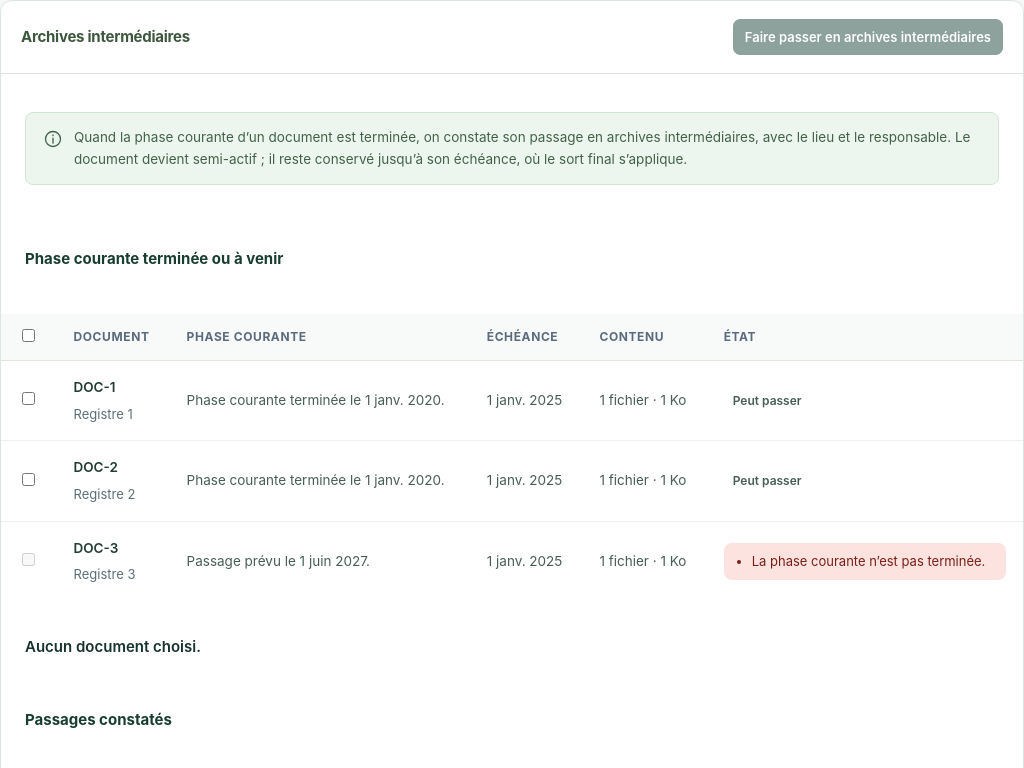
Test: les documents dont la phase est terminée se cochent, les autres se lisent avec leur raison
This screenshot has width=1024, height=768.
Check: the text "DOC-1" is shown, box [74,379,116,395]
Check: the text "Peut passer" is shown 2 times, box [733,393,802,408]; [733,474,802,488]
Click the checkbox named "Tout choisir".
click(28, 336)  # box [22,329,35,342]
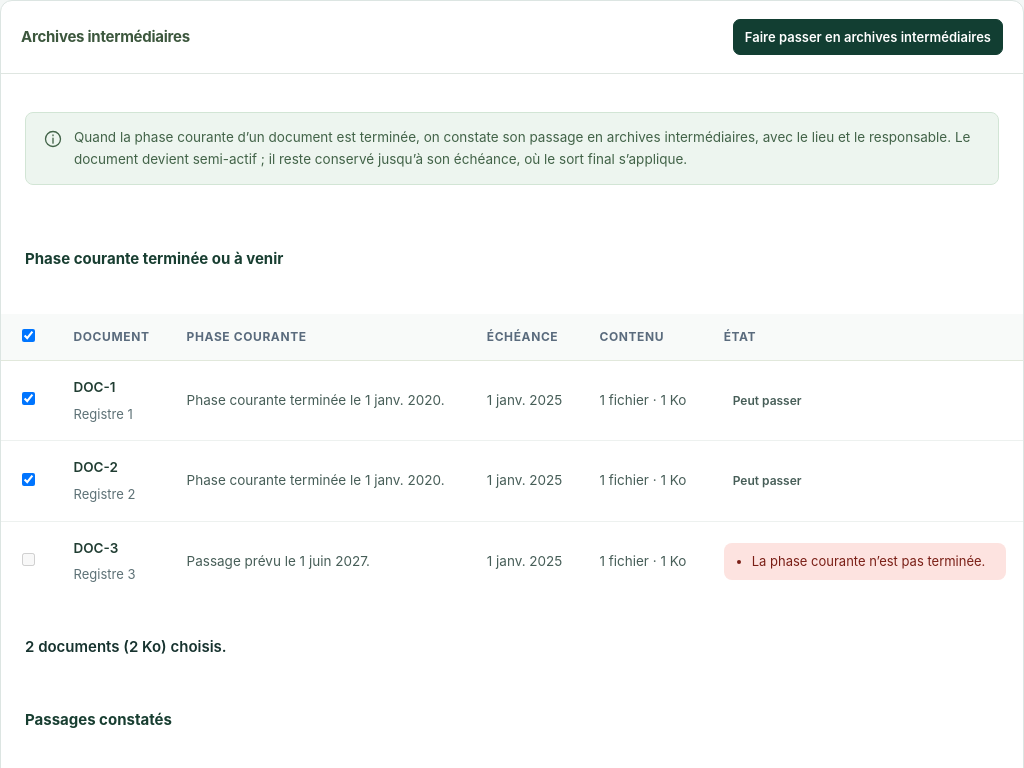
Check: the text "2 documents (2 Ko) choisis." is shown, box [25,637,227,656]
Check: the button "Faire passer en archives intermédiaires" is enabled, box [733,19,1003,55]
